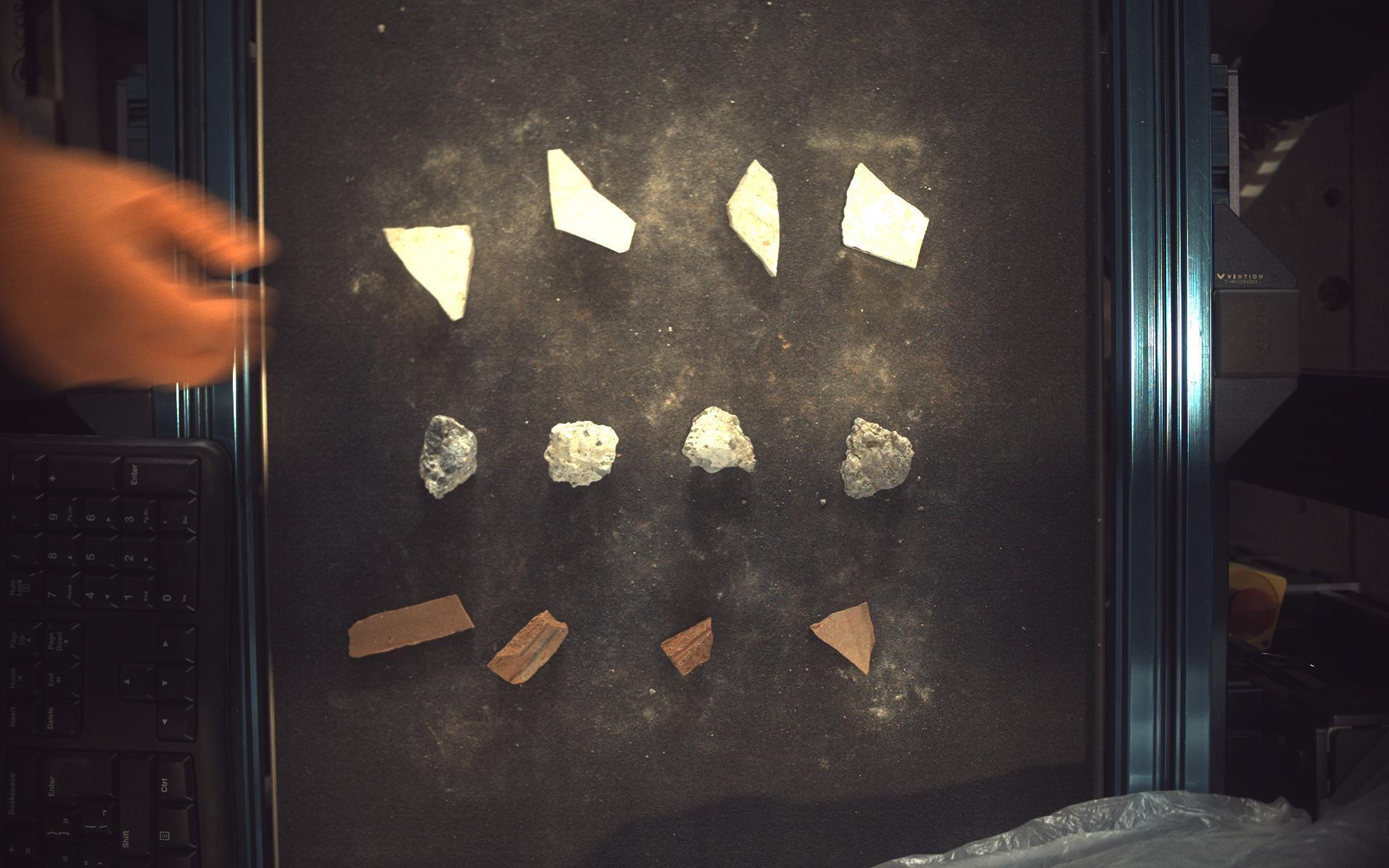brick: (349, 595, 475, 659), (488, 611, 568, 686), (812, 603, 877, 675), (662, 618, 715, 676)
concrete: (842, 417, 916, 498), (545, 420, 619, 487), (684, 407, 757, 474), (419, 415, 477, 499)
tile: (548, 148, 637, 252), (844, 162, 930, 268), (383, 225, 474, 320), (729, 158, 781, 276)
